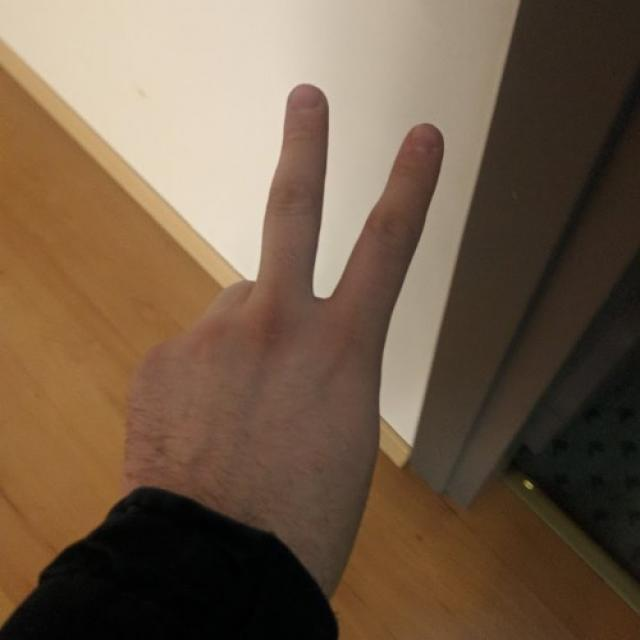scissors: (125, 84, 442, 542)
